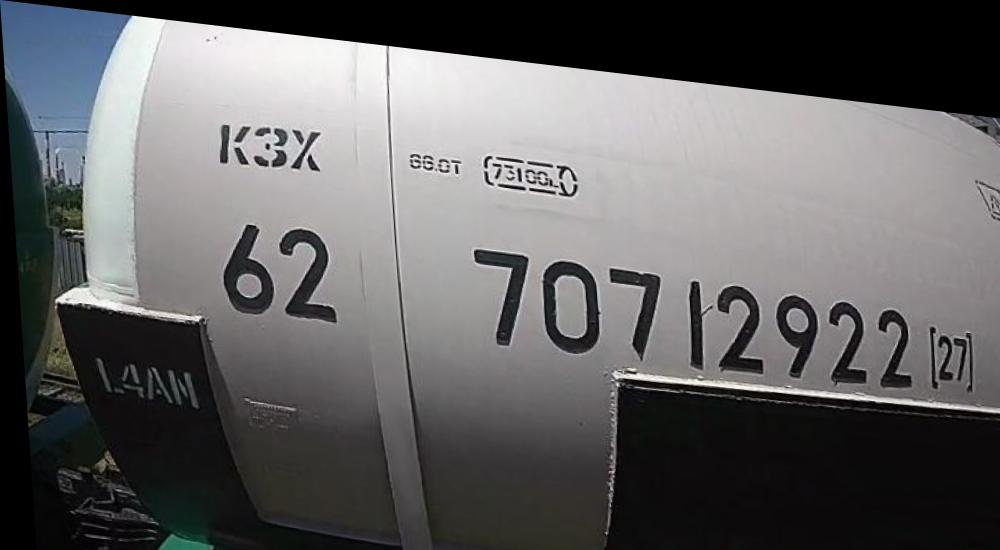Wagon-number: (467, 229, 915, 374)
